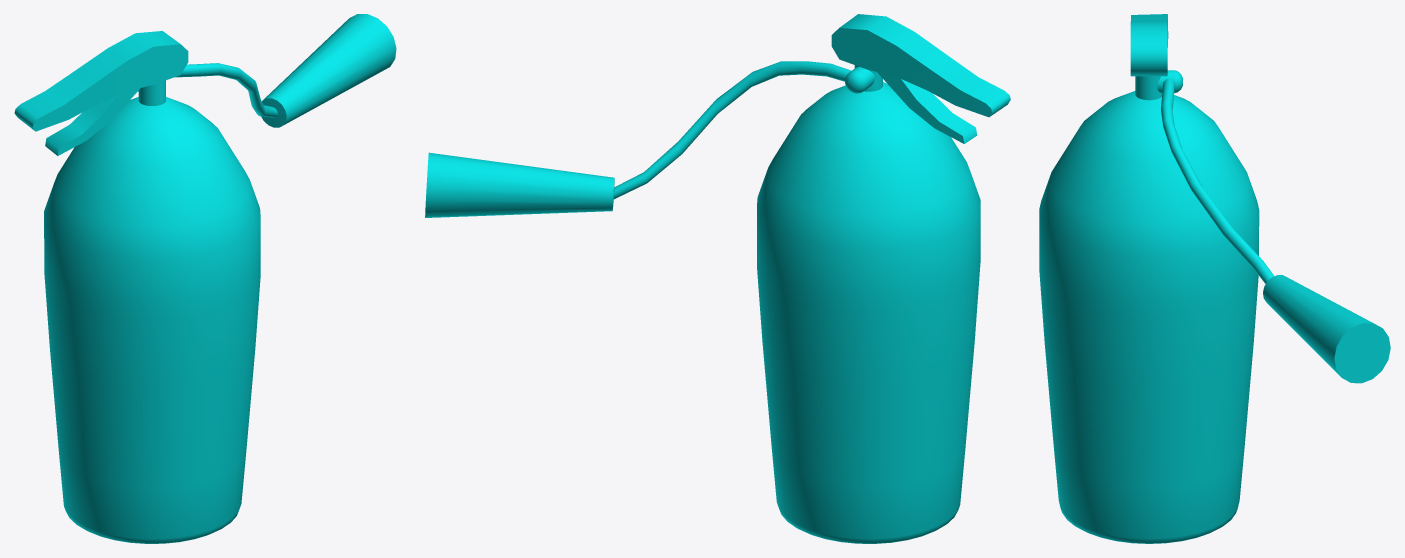
The model's file is komono.fbx.
3 renders of one model, left to right at view 1: azimuth 30°, elevation 25°; view 2: azimuth 150°, elevation 25°; view 3: azimuth 270°, elevation 25°, orthographic. The views are drawn at different scales.
Parts seen in each view (by area): view 1: Cylinder, Cylinder.002, Cube, Cube.001, Cylinder.001; view 2: Cylinder, Cylinder.002, Cube, Cube.001; view 3: Cylinder, Cylinder.002, Cube, Cylinder.001.
Boxes of the visible parts, left/top/right/bottom form: Cylinder: left=44, top=97, right=260, bottom=543; Cylinder.002: left=175, top=14, right=396, bottom=127; Cube: left=14, top=31, right=188, bottom=131; Cube.001: left=45, top=88, right=140, bottom=155; Cylinder.001: left=138, top=80, right=165, bottom=105; Cylinder: left=757, top=82, right=980, bottom=543; Cylinder.002: left=425, top=61, right=851, bottom=217; Cube: left=831, top=14, right=1010, bottom=117; Cube.001: left=877, top=72, right=977, bottom=143; Cylinder: left=1039, top=91, right=1259, bottom=543; Cylinder.002: left=1161, top=78, right=1390, bottom=383; Cube: left=1130, top=14, right=1168, bottom=76; Cylinder.001: left=1135, top=76, right=1162, bottom=100.
Size of the model in its own units: 150 by 146 by 97.37.
